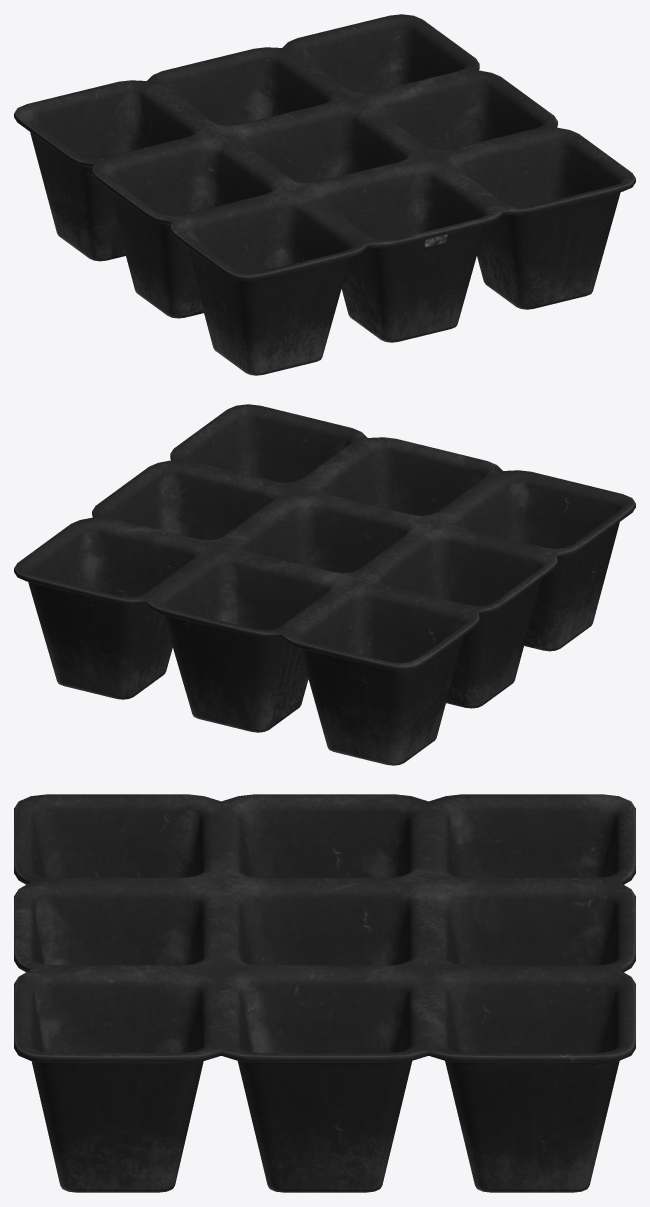
The picture shows the model from 3 angles, top to bottom: view 1: azimuth 30°, elevation 25°; view 2: azimuth 150°, elevation 25°; view 3: azimuth 270°, elevation 25°; orthographic projection. The views are drawn at different scales.
Visible parts, largest first — view 1: seeding_tray_01; view 2: seeding_tray_01; view 3: seeding_tray_01.
Part boxes in pixels (box(x1,y1,x2,y2)): seeding_tray_01: box(14, 14, 635, 375); seeding_tray_01: box(14, 404, 635, 765); seeding_tray_01: box(14, 794, 635, 1192).
Bounding box in the file's own units: 0.2202 × 0.0608 × 0.2202.
Materials: 1 (1 with a texture image).
